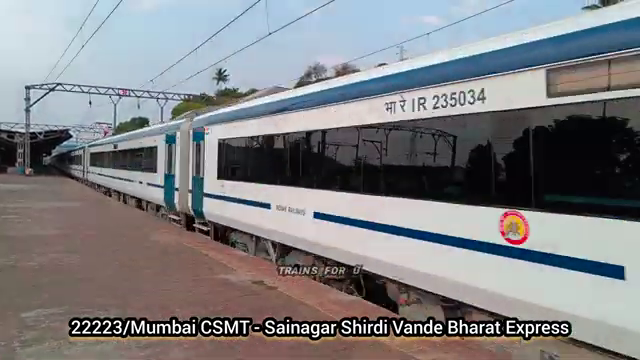Boogie: (427, 88, 494, 111)
